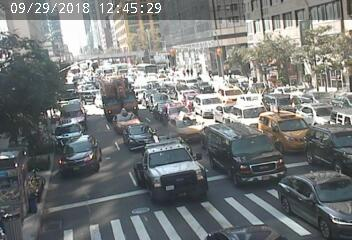car: (219, 130, 279, 186), (301, 182, 351, 219), (146, 145, 188, 176), (63, 138, 102, 168), (101, 80, 133, 107), (319, 138, 352, 164), (171, 115, 198, 133), (271, 113, 297, 131), (236, 102, 258, 123), (56, 126, 88, 139), (62, 105, 83, 121), (124, 128, 148, 141), (159, 103, 187, 114), (223, 87, 244, 101), (198, 97, 216, 113), (304, 107, 323, 121), (173, 75, 201, 84), (147, 90, 169, 101), (275, 93, 292, 107), (336, 109, 351, 124), (114, 114, 136, 123), (181, 95, 198, 104), (187, 86, 211, 92), (218, 106, 230, 117)
